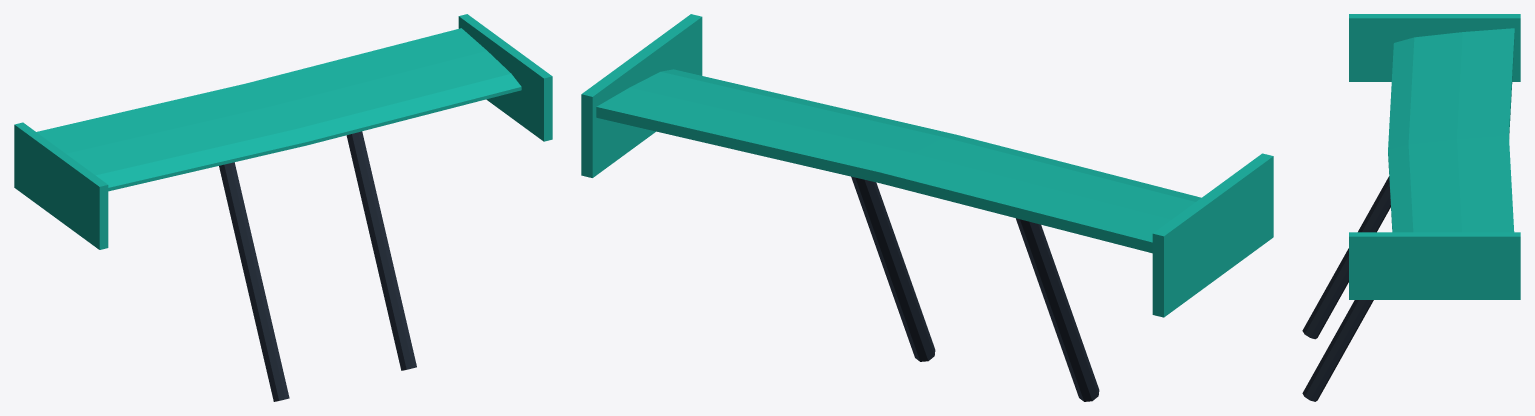
File: lowdrag.glb
3 views of the same model, side by side, from view 1: azimuth 30°, elevation 25°; view 2: azimuth 150°, elevation 25°; view 3: azimuth 270°, elevation 25° (orthographic). The views are drawn at different scales.
Parts seen in each view (by area): view 1: RearWing; view 2: RearWing; view 3: RearWing.
Boxes of the visible parts, x1=… form: RearWing: x1=14, y1=14, x2=552, y2=401; RearWing: x1=581, y1=14, x2=1273, y2=401; RearWing: x1=1302, y1=14, x2=1520, y2=401.
Size of the model in its own units: 1.35 by 0.69 by 0.5596.
